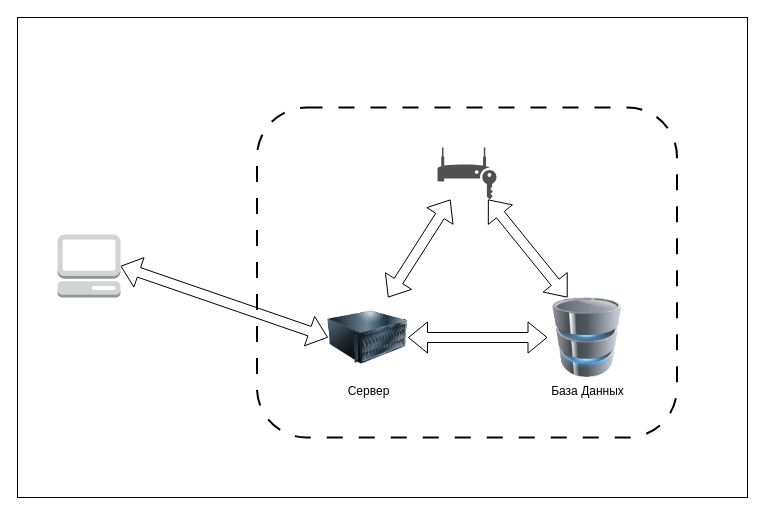
This 765x515 diagram has some shape labels left out. Each missing label, with the box of its shape:
AuthProvider: (437, 147, 496, 199)
Client: (56, 234, 120, 298)
